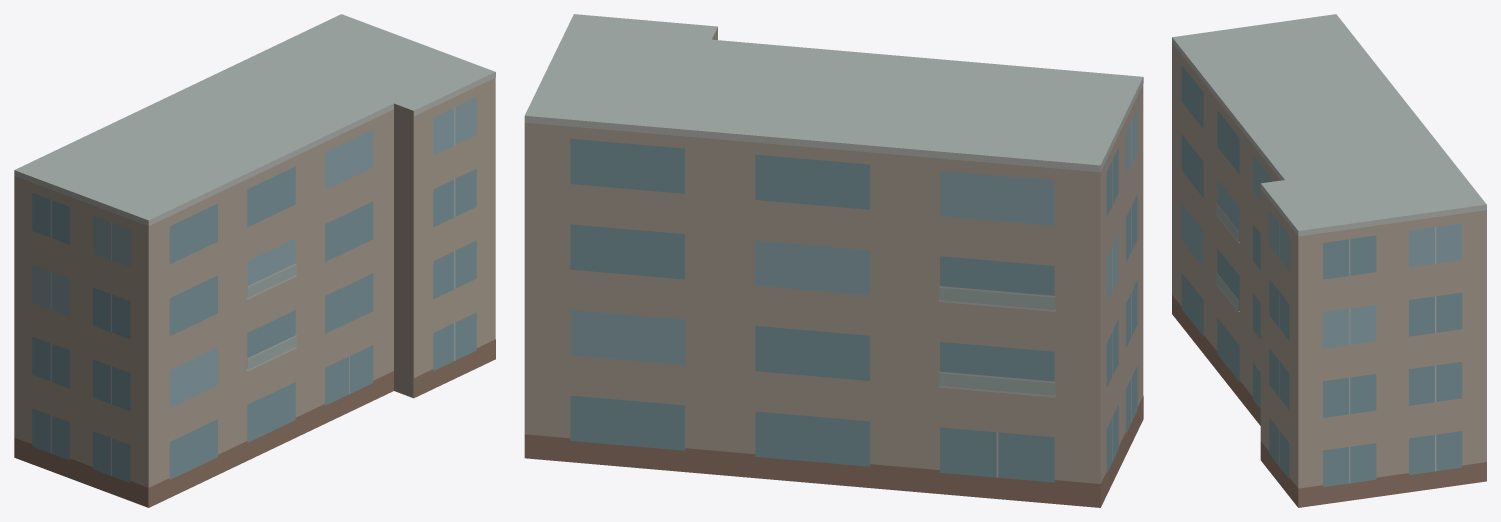
File: residential-548dab20-8285-4d9b-b839-1444ad0f19af.glb
The picture shows the model from 3 angles, left to right: view 1: azimuth 30°, elevation 25°; view 2: azimuth 150°, elevation 25°; view 3: azimuth 270°, elevation 25°; orthographic projection. The views are drawn at different scales.
Parts seen in each view (by area): view 1: residential-548dab20-8285-4d9b-b839-1444ad0f19af.tmp; view 2: residential-548dab20-8285-4d9b-b839-1444ad0f19af.tmp; view 3: residential-548dab20-8285-4d9b-b839-1444ad0f19af.tmp.
Part boxes in pixels (x1,y1,x2,y2): residential-548dab20-8285-4d9b-b839-1444ad0f19af.tmp: [14, 14, 495, 507]; residential-548dab20-8285-4d9b-b839-1444ad0f19af.tmp: [524, 14, 1143, 507]; residential-548dab20-8285-4d9b-b839-1444ad0f19af.tmp: [1172, 14, 1486, 507].
Bounding box in the file's own units: 20.52 × 12.2 × 12.58.
